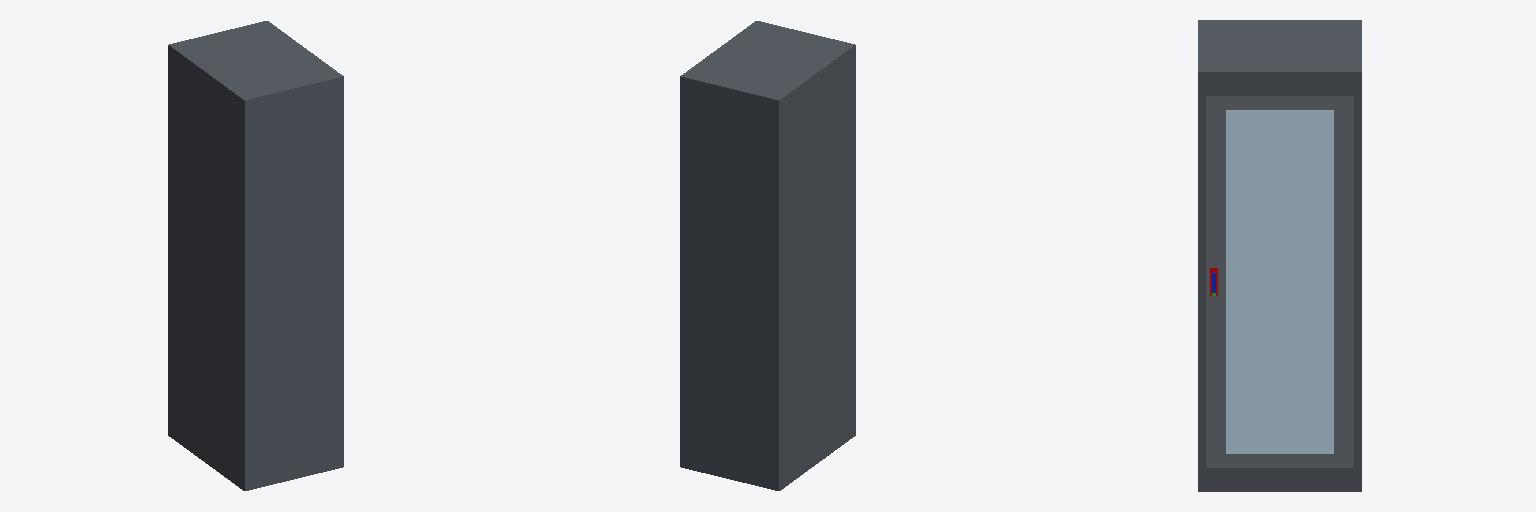
URDF robot description (electrical_cabinet):
<?xml version="1.0" ?>
<!-- =================================================================================== -->
<!-- |    This document was autogenerated by xacro from src/electrical_cabinet_gazebo/urdf/electrical_cabinet.xacro | -->
<!-- |    EDITING THIS FILE BY HAND IS NOT RECOMMENDED                                 | -->
<!-- =================================================================================== -->
<robot name="electrical_cabinet">
  <link name="cabinet_base_link">
    <inertial>
      <origin rpy="0 0 0" xyz="0 0 0"/>
      <mass value="80.0"/>
      <inertia ixx="38.31733333333332" ixy="0.0" ixz="0.0" iyy="36.450666666666656" iyz="0.0" izz="6.666666666666667"/>
    </inertial>
    <visual name="left_side_visual">
      <origin rpy="0 0 0" xyz="0 -0.38 1.13"/>
      <geometry>
        <box size="0.6 0.040000000000000036 2.26"/>
      </geometry>
      <material name="left_side_material">
        <color rgba="0.38 0.40 0.43 1.0"/>
      </material>
    </visual>
    <collision name="left_side_collision">
      <origin rpy="0 0 0" xyz="0 -0.38 1.13"/>
      <geometry>
        <box size="0.6 0.040000000000000036 2.26"/>
      </geometry>
    </collision>
    <visual name="right_side_visual">
      <origin rpy="0 0 0" xyz="0 0.38 1.13"/>
      <geometry>
        <box size="0.6 0.040000000000000036 2.26"/>
      </geometry>
      <material name="right_side_material">
        <color rgba="0.38 0.40 0.43 1.0"/>
      </material>
    </visual>
    <collision name="right_side_collision">
      <origin rpy="0 0 0" xyz="0 0.38 1.13"/>
      <geometry>
        <box size="0.6 0.040000000000000036 2.26"/>
      </geometry>
    </collision>
    <visual name="bottom_frame_visual">
      <origin rpy="0 0 0" xyz="0 0 0.0625"/>
      <geometry>
        <box size="0.6 0.72 0.125"/>
      </geometry>
      <material name="bottom_frame_material">
        <color rgba="0.38 0.40 0.43 1.0"/>
      </material>
    </visual>
    <collision name="bottom_frame_collision">
      <origin rpy="0 0 0" xyz="0 0 0.0625"/>
      <geometry>
        <box size="0.6 0.72 0.125"/>
      </geometry>
    </collision>
    <visual name="top_frame_visual">
      <origin rpy="0 0 0" xyz="0 0 2.1975"/>
      <geometry>
        <box size="0.6 0.72 0.125"/>
      </geometry>
      <material name="top_frame_material">
        <color rgba="0.38 0.40 0.43 1.0"/>
      </material>
    </visual>
    <collision name="top_frame_collision">
      <origin rpy="0 0 0" xyz="0 0 2.1975"/>
      <geometry>
        <box size="0.6 0.72 0.125"/>
      </geometry>
    </collision>
    <visual name="rear_wall_visual">
      <origin rpy="0 0 0" xyz="-0.29 0 1.13"/>
      <geometry>
        <box size="0.02 0.72 2.01"/>
      </geometry>
      <material name="rear_wall_material">
        <color rgba="0.38 0.40 0.43 1.0"/>
      </material>
    </visual>
    <collision name="rear_wall_collision">
      <origin rpy="0 0 0" xyz="-0.29 0 1.13"/>
      <geometry>
        <box size="0.02 0.72 2.01"/>
      </geometry>
    </collision>
    <visual name="door_recess_back_visual">
      <origin rpy="0 0 0" xyz="0.18999999999999997 0 1.13"/>
      <geometry>
        <box size="0.02 0.72 2.01"/>
      </geometry>
      <material name="door_recess_back_material">
        <color rgba="0.12 0.14 0.16 1.0"/>
      </material>
    </visual>
    <collision name="door_recess_back_collision">
      <origin rpy="0 0 0" xyz="0.18999999999999997 0 1.13"/>
      <geometry>
        <box size="0.02 0.72 2.01"/>
      </geometry>
    </collision>
  </link>
  <link name="door_hinge_link">
    <inertial>
      <origin rpy="0 0 0" xyz="0 0 0"/>
      <mass value="0.01"/>
      <inertia ixx="1.666666666666667e-07" ixy="0.0" ixz="0.0" iyy="1.666666666666667e-07" iyz="0.0" izz="1.666666666666667e-07"/>
    </inertial>
  </link>
  <link name="door_link">
    <inertial>
      <origin rpy="0 0 0" xyz="0 0 0"/>
      <mass value="12.0"/>
      <inertia ixx="4.558499999999999" ixy="0.0" ixz="0.0" iyy="4.040499999999999" iyz="0.0" izz="0.5187999999999999"/>
    </inertial>
    <visual>
      <origin rpy="0 0 0" xyz="-0.0025 -0.3125 0"/>
      <geometry>
        <box size="0.015 0.095 2.01"/>
      </geometry>
      <material name="door_core_material">
        <color rgba="0.58 0.60 0.63 1.0"/>
      </material>
    </visual>
    <visual>
      <origin rpy="0 0 0" xyz="-0.0025 0.3125 0"/>
      <geometry>
        <box size="0.015 0.095 2.01"/>
      </geometry>
      <material name="door_core_material">
        <color rgba="0.58 0.60 0.63 1.0"/>
      </material>
    </visual>
    <visual>
      <origin rpy="0 0 0" xyz="-0.0025 0 -0.9665"/>
      <geometry>
        <box size="0.015 0.53 0.077"/>
      </geometry>
      <material name="door_core_material">
        <color rgba="0.58 0.60 0.63 1.0"/>
      </material>
    </visual>
    <visual>
      <origin rpy="0 0 0" xyz="-0.0025 0 0.9665"/>
      <geometry>
        <box size="0.015 0.53 0.077"/>
      </geometry>
      <material name="door_core_material">
        <color rgba="0.58 0.60 0.63 1.0"/>
      </material>
    </visual>
    <visual>
      <origin rpy="0 0 0" xyz="0.0075 -0.3125 -0.54"/>
      <geometry>
        <box size="0.005 0.095 0.93"/>
      </geometry>
      <material name="door_skin_bottom_material">
        <color rgba="0.47 0.49 0.52 1.0"/>
      </material>
    </visual>
    <visual>
      <origin rpy="0 0 0" xyz="0.0075 0.3125 -0.54"/>
      <geometry>
        <box size="0.005 0.095 0.93"/>
      </geometry>
      <material name="door_skin_bottom_material">
        <color rgba="0.47 0.49 0.52 1.0"/>
      </material>
    </visual>
    <visual>
      <origin rpy="0 0 0" xyz="0.0075 0 -0.9665"/>
      <geometry>
        <box size="0.005 0.53 0.077"/>
      </geometry>
      <material name="door_skin_bottom_material">
        <color rgba="0.47 0.49 0.52 1.0"/>
      </material>
    </visual>
    <visual>
      <origin rpy="0 0 0" xyz="0.0075 -0.3125 0.54"/>
      <geometry>
        <box size="0.005 0.095 0.93"/>
      </geometry>
      <material name="door_skin_top_material">
        <color rgba="0.47 0.49 0.52 1.0"/>
      </material>
    </visual>
    <visual>
      <origin rpy="0 0 0" xyz="0.0075 0.3125 0.54"/>
      <geometry>
        <box size="0.005 0.095 0.93"/>
      </geometry>
      <material name="door_skin_top_material">
        <color rgba="0.47 0.49 0.52 1.0"/>
      </material>
    </visual>
    <visual>
      <origin rpy="0 0 0" xyz="0.0075 0 0.9665"/>
      <geometry>
        <box size="0.005 0.53 0.077"/>
      </geometry>
      <material name="door_skin_top_material">
        <color rgba="0.47 0.49 0.52 1.0"/>
      </material>
    </visual>
    <visual>
      <origin rpy="0 0 0" xyz="0.0075 -0.35 0"/>
      <geometry>
        <box size="0.005 0.02 0.15"/>
      </geometry>
      <material name="door_skin_left_material">
        <color rgba="0.47 0.49 0.52 1.0"/>
      </material>
    </visual>
    <visual>
      <origin rpy="0 0 0" xyz="0.0075 -0.285 0"/>
      <geometry>
        <box size="0.005 0.04 0.15"/>
      </geometry>
      <material name="door_skin_right_material">
        <color rgba="0.47 0.49 0.52 1.0"/>
      </material>
    </visual>
    <visual>
      <origin rpy="0 0 0" xyz="0.0075 0.3125 0"/>
      <geometry>
        <box size="0.005 0.095 0.15"/>
      </geometry>
      <material name="door_skin_right_material">
        <color rgba="0.47 0.49 0.52 1.0"/>
      </material>
    </visual>
  </link>
  <joint name="door_hinge_joint" type="revolute">
    <parent link="cabinet_base_link"/>
    <child link="door_hinge_link"/>
    <origin rpy="0 0 0" xyz="0.29 0.36 1.13"/>
    <axis xyz="0 0 1"/>
    <limit effort="100" lower="-0.0001" upper="1.57079632679" velocity="1.0"/>
    <dynamics damping="1.0" friction="0.1"/>
  </joint>
  <joint name="door_mount_joint" type="fixed">
    <parent link="door_hinge_link"/>
    <child link="door_link"/>
    <origin rpy="0 0 0" xyz="0 -0.36 0"/>
  </joint>
  <link name="lock_cavity_link">
    <inertial>
      <origin rpy="0 0 0" xyz="0 0 0"/>
      <mass value="0.05"/>
      <inertia ixx="6.166666666666667e-05" ixy="0.0" ixz="0.0" iyy="6.0004166666666664e-05" iyz="0.0" izz="1.6708333333333336e-06"/>
    </inertial>
    <visual name="lock_cavity_back_visual">
      <origin rpy="0 0 0" xyz="0 0 0"/>
      <geometry>
        <box size="0.001 0.02 0.12"/>
      </geometry>
      <material name="lock_cavity_back_material">
        <color rgba="0.12 0.14 0.16 1.0"/>
      </material>
    </visual>
  </link>
  <joint name="lock_cavity_mount_joint" type="fixed">
    <parent link="door_link"/>
    <child link="lock_cavity_link"/>
    <origin rpy="0 0 0" xyz="0.0055 -0.32249999999999995 -0.015"/>
  </joint>
  <link name="lock_frame_link">
    <inertial>
      <origin rpy="0 0 0" xyz="0 0 0"/>
      <mass value="0.15"/>
      <inertia ixx="0.0002965625" ixy="0.0" ixz="0.0" iyy="0.00028136249999999996" iyz="0.0" izz="1.5425e-05"/>
    </inertial>
    <visual name="lock_frame_left_visual">
      <origin rpy="0 0 0" xyz="0 -0.013750000000000002 0"/>
      <geometry>
        <box size="0.003 0.0075000000000000015 0.15"/>
      </geometry>
      <material name="lock_frame_left_material">
        <color rgba="0.95 0.05 0.05 1.0"/>
      </material>
    </visual>
    <visual name="lock_frame_right_visual">
      <origin rpy="0 0 0" xyz="0 0.013750000000000002 0"/>
      <geometry>
        <box size="0.003 0.0075000000000000015 0.15"/>
      </geometry>
      <material name="lock_frame_right_material">
        <color rgba="0.95 0.05 0.05 1.0"/>
      </material>
    </visual>
    <visual name="lock_frame_top_visual">
      <origin rpy="0 0 0" xyz="0 0 0.06"/>
      <geometry>
        <box size="0.003 0.02 0.03"/>
      </geometry>
      <material name="lock_frame_top_material">
        <color rgba="0.95 0.05 0.05 1.0"/>
      </material>
    </visual>
  </link>
  <joint name="lock_frame_mount_joint" type="fixed">
    <parent link="door_link"/>
    <child link="lock_frame_link"/>
    <origin rpy="0 0 0" xyz="0.0065 -0.32249999999999995 0"/>
  </joint>
  <link name="lock_button_link">
    <inertial>
      <origin rpy="0 0 0" xyz="0.003 0 0"/>
      <mass value="0.03"/>
      <inertia ixx="1.5624999999999999e-06" ixy="0.0" ixz="0.0" iyy="6.25e-07" iyz="0.0" izz="1.0625e-06"/>
    </inertial>
    <visual name="lock_button_visual">
      <origin rpy="0 0 0" xyz="0.003 0 0"/>
      <geometry>
        <box size="0.005 0.02 0.015"/>
      </geometry>
      <material name="lock_button_material">
        <color rgba="0.20 0.85 0.05 1.0"/>
      </material>
    </visual>
  </link>
  <joint name="button_press_joint" type="revolute">
    <parent link="door_link"/>
    <child link="lock_button_link"/>
    <origin rpy="0 0 0" xyz="0.0045 -0.32249999999999995 -0.0675"/>
    <axis xyz="0 0 1"/>
    <limit effort="30" lower="-0.0001" upper="3.14159265359" velocity="8.0"/>
    <dynamics damping="1.0" friction="0.1"/>
  </joint>
  <link name="button_contact_sensor_link">
    <inertial>
      <origin rpy="0 0 0" xyz="0 0 0"/>
      <mass value="0.001"/>
      <inertia ixx="5.208333333333334e-08" ixy="0.0" ixz="0.0" iyy="1.8833333333333333e-08" iyz="0.0" izz="3.341666666666667e-08"/>
    </inertial>
    <collision name="button_contact_pad_collision">
      <origin rpy="0 0 0" xyz="0 0 0"/>
      <geometry>
        <box size="0.001 0.02 0.015"/>
      </geometry>
    </collision>
  </link>
  <joint name="button_contact_sensor_mount_joint" type="fixed">
    <parent link="door_link"/>
    <child link="button_contact_sensor_link"/>
    <origin rpy="0 0 0" xyz="0.0235 -0.32249999999999995 -0.0675"/>
  </joint>
  <link name="handle_pop_link">
    <inertial>
      <origin rpy="0 0 0" xyz="0 0 0"/>
      <mass value="0.01"/>
      <inertia ixx="6.666666666666667e-09" ixy="0.0" ixz="0.0" iyy="6.666666666666667e-09" iyz="0.0" izz="6.666666666666667e-09"/>
    </inertial>
  </link>
  <joint name="handle_turn_joint" type="revolute">
    <parent link="door_link"/>
    <child link="handle_pop_link"/>
    <origin rpy="0 0 0" xyz="0.0075 -0.32249999999999995 0.045"/>
    <axis xyz="1 0 0"/>
    <limit effort="30" lower="-0.0001" upper="1.57079632679" velocity="2.0"/>
    <dynamics damping="0.5" friction="0.05"/>
  </joint>
  <link name="door_handle_link">
    <inertial>
      <origin rpy="0 0 0" xyz="0 0 -0.0525"/>
      <mass value="0.1"/>
      <inertia ixx="9.520833333333332e-05" ixy="0.0" ixz="0.0" iyy="9.208333333333333e-05" iyz="0.0" izz="3.541666666666667e-06"/>
    </inertial>
    <visual name="door_handle_visual">
      <origin rpy="0 0 0" xyz="0 0 -0.0525"/>
      <geometry>
        <box size="0.005 0.02 0.105"/>
      </geometry>
      <material name="door_handle_material">
        <color rgba="0.02 0.25 0.95 1.0"/>
      </material>
    </visual>
  </link>
  <joint name="handle_pop_joint" type="revolute">
    <parent link="handle_pop_link"/>
    <child link="door_handle_link"/>
    <origin rpy="0 0 0" xyz="0 0 0"/>
    <axis xyz="0 1 0"/>
    <limit effort="30" lower="-1.0471975512" upper="0.0001" velocity="2.0"/>
    <dynamics damping="0.5" friction="0.05"/>
  </joint>
  <link name="door_handle_grasp_frame"/>
  <joint name="door_handle_grasp_frame_joint" type="fixed">
    <parent link="door_handle_link"/>
    <child link="door_handle_grasp_frame"/>
    <origin rpy="0 0 0" xyz="0 0 0"/>
  </joint>
  <gazebo>
    <plugin filename="libgazebo_ros_control.so" name="gazebo_ros_control">
      <robotNamespace>/electrical_cabinet</robotNamespace>
      <robotSimType>gazebo_ros_control/DefaultRobotHWSim</robotSimType>
      <legacyModeNS>true</legacyModeNS>
    </plugin>
    <plugin filename="libelectrical_cabinet_kinematic_plugin.so" name="electrical_cabinet_kinematic_plugin"/>
  </gazebo>
  <gazebo reference="cabinet_base_link">
    <gravity>false</gravity>
    <selfCollide>false</selfCollide>
    <material>Gazebo/DarkGrey</material>
  </gazebo>
  <gazebo reference="door_link">
    <gravity>false</gravity>
    <selfCollide>false</selfCollide>
    <material>Gazebo/Grey</material>
  </gazebo>
  <gazebo reference="door_hinge_link">
    <gravity>false</gravity>
    <selfCollide>false</selfCollide>
  </gazebo>
  <gazebo reference="lock_cavity_link">
    <gravity>false</gravity>
    <selfCollide>false</selfCollide>
    <material>Gazebo/Black</material>
  </gazebo>
  <gazebo reference="lock_frame_link">
    <gravity>false</gravity>
    <selfCollide>false</selfCollide>
    <material>Gazebo/Red</material>
  </gazebo>
  <gazebo reference="handle_pop_link">
    <gravity>false</gravity>
    <selfCollide>false</selfCollide>
  </gazebo>
  <gazebo reference="door_handle_link">
    <gravity>false</gravity>
    <selfCollide>false</selfCollide>
    <material>Gazebo/Blue</material>
  </gazebo>
  <gazebo reference="lock_button_link">
    <gravity>false</gravity>
    <selfCollide>false</selfCollide>
    <material>Gazebo/Green</material>
  </gazebo>
  <gazebo reference="button_contact_sensor_link">
    <gravity>false</gravity>
    <selfCollide>false</selfCollide>
    <sensor name="button_contact_sensor" type="contact">
      <always_on>true</always_on>
      <update_rate>100.0</update_rate>
      <contact>
        <collision>button_contact_pad_collision</collision>
      </contact>
      <plugin filename="libgazebo_ros_bumper.so" name="button_contact_bumper">
        <alwaysOn>true</alwaysOn>
        <updateRate>100.0</updateRate>
        <robotNamespace>/electrical_cabinet</robotNamespace>
        <frameName>lock_button_link</frameName>
        <bumperTopicName>button_contacts</bumperTopicName>
      </plugin>
    </sensor>
  </gazebo>
  <transmission name="door_hinge_joint_transmission">
    <type>transmission_interface/SimpleTransmission</type>
    <joint name="door_hinge_joint">
      <hardwareInterface>hardware_interface/PositionJointInterface</hardwareInterface>
    </joint>
    <actuator name="door_hinge_motor">
      <mechanicalReduction>1</mechanicalReduction>
    </actuator>
  </transmission>
  <transmission name="button_press_joint_transmission">
    <type>transmission_interface/SimpleTransmission</type>
    <joint name="button_press_joint">
      <hardwareInterface>hardware_interface/PositionJointInterface</hardwareInterface>
    </joint>
    <actuator name="button_press_motor">
      <mechanicalReduction>1</mechanicalReduction>
    </actuator>
  </transmission>
  <transmission name="handle_pop_joint_transmission">
    <type>transmission_interface/SimpleTransmission</type>
    <joint name="handle_pop_joint">
      <hardwareInterface>hardware_interface/PositionJointInterface</hardwareInterface>
    </joint>
    <actuator name="handle_pop_motor">
      <mechanicalReduction>1</mechanicalReduction>
    </actuator>
  </transmission>
  <transmission name="handle_turn_joint_transmission">
    <type>transmission_interface/SimpleTransmission</type>
    <joint name="handle_turn_joint">
      <hardwareInterface>hardware_interface/PositionJointInterface</hardwareInterface>
    </joint>
    <actuator name="handle_turn_motor">
      <mechanicalReduction>1</mechanicalReduction>
    </actuator>
  </transmission>
  <link name="door_glass_visual_link">
    <visual>
      <origin rpy="0 0 0" xyz="0 0 0"/>
      <geometry>
        <box size="0.02 0.53 1.856"/>
      </geometry>
      <material name="door_glass">
        <color rgba="0.82 0.93 0.98 0.18"/>
      </material>
    </visual>
  </link>
  <joint name="door_glass_visual_mount" type="fixed">
    <parent link="door_link"/>
    <child link="door_glass_visual_link"/>
  </joint>
  <gazebo reference="door_glass_visual_link">
    <visual>
      <transparency>0.82</transparency>
      <cast_shadows>false</cast_shadows>
      <material>
        <ambient>0.82 0.93 0.98 0.18</ambient>
        <diffuse>0.82 0.93 0.98 0.18</diffuse>
        <specular>0.5 0.5 0.5 1</specular>
      </material>
    </visual>
  </gazebo>
  <link name="cabinet_world"/>
  <joint name="electrical_cabinet_fixed_to_world" type="fixed">
    <parent link="cabinet_world"/>
    <child link="cabinet_base_link"/>
    <origin rpy="0 0 0" xyz="0 0 0"/>
  </joint>
</robot>

--- Render facts (derived) ---
Views: 3 orthographic renders of the robot side by side, from view 1: azimuth 30°, elevation 25°; view 2: azimuth 150°, elevation 25°; view 3: azimuth 270°, elevation 25°.
Model electrical_cabinet with 12 links and 11 joints (4 revolute, 7 fixed), rooted at cabinet_world, posed every joint at zero.
Links seen in each view (by area): view 1: cabinet_base_link; view 2: cabinet_base_link; view 3: door_glass_visual_link, cabinet_base_link, door_link.
Link boxes in pixels (x1,y1,x2,y2): cabinet_base_link: (168,21,343,490); cabinet_base_link: (680,21,855,490); door_glass_visual_link: (1226,110,1333,453); cabinet_base_link: (1198,20,1361,491); door_link: (1206,96,1353,467).
Size in the robot's own frame: 0.6 by 0.8 by 2.26 metres.
Geometry: primitives only (box / cylinder / sphere), no mesh files.
